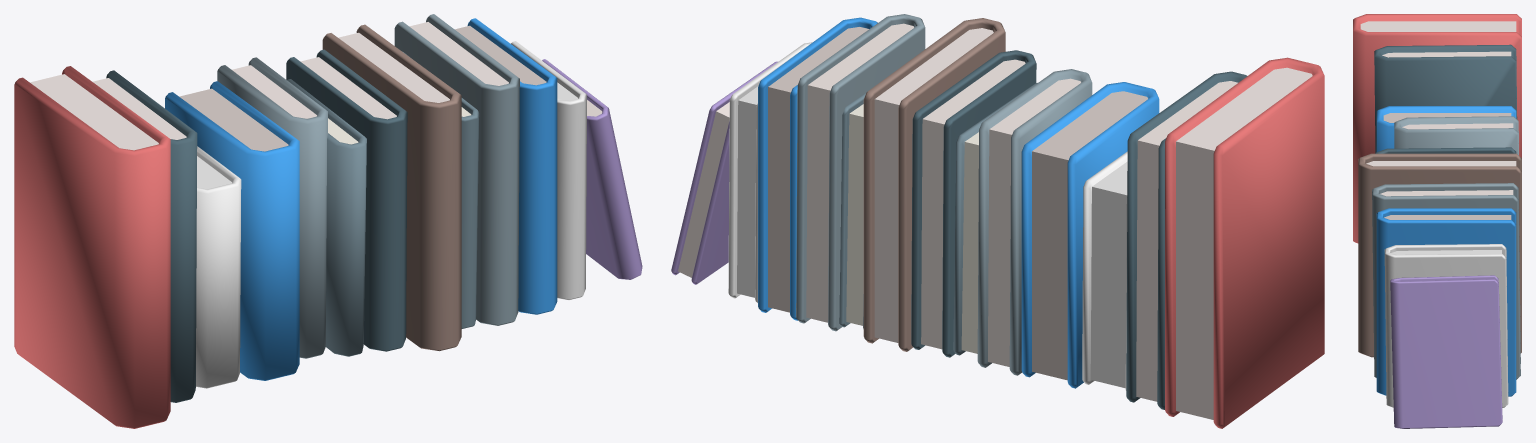
File: prop_047.fbx
3 renders of one model, left to right at view 1: azimuth 30°, elevation 25°; view 2: azimuth 150°, elevation 25°; view 3: azimuth 270°, elevation 25°, orthographic. The views are drawn at different scales.
Parts seen in each view (by area): view 1: prop_047; view 2: prop_047; view 3: prop_047.
Part boxes in pixels (left/top/right/bottom): prop_047: left=14, top=14, right=642, bottom=428; prop_047: left=671, top=14, right=1324, bottom=428; prop_047: left=1353, top=14, right=1521, bottom=428.
Bounding box in the file's own units: 84.16 × 28.89 × 40.24.
